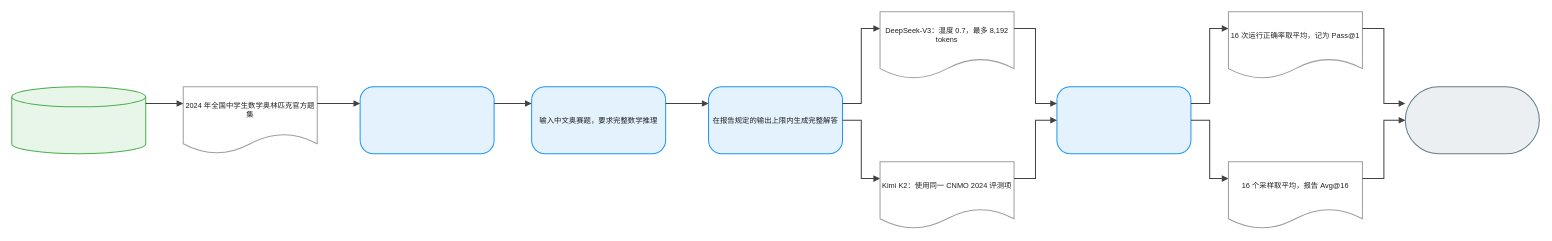
This 1552x241 diagram has some shape labels left out. The shapes that lost their labels are listed below. From the top down, each one's centre as x and y in pixels, then its label:
(78,120): 中国数学会数学竞赛
(426,120): 官方题集复用，非新建基准
(1123,120): 对每个采样应用评测框架的正确性检查
(1472,120): 中文奥林匹克数学推理能力比较
